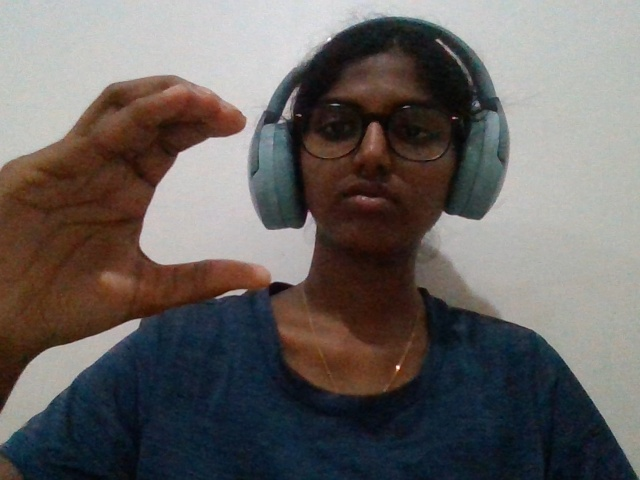C: (1, 57, 306, 427)
